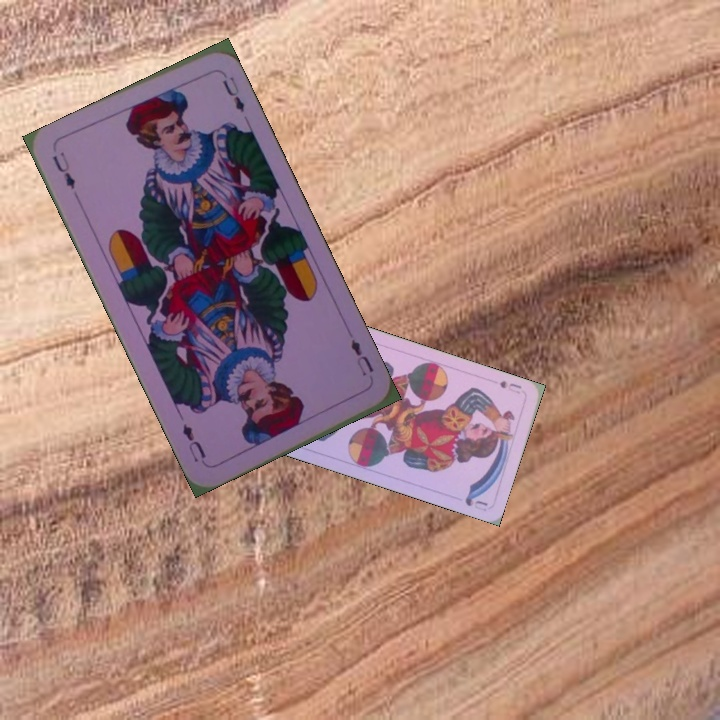EU: (48, 147, 78, 192), (346, 335, 376, 379)
SU: (496, 376, 524, 391)
